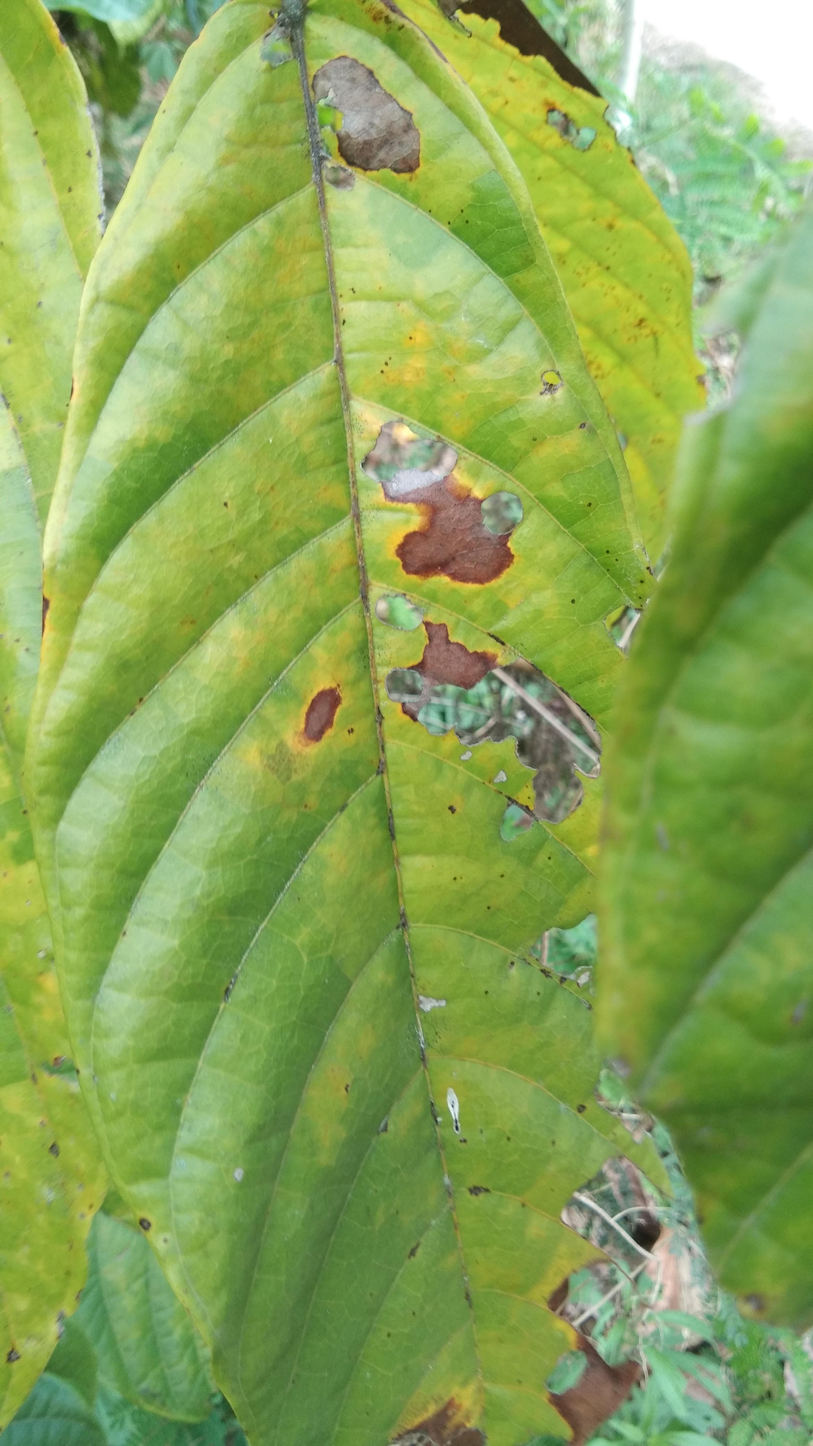deficiencia_potasio: (17, 0, 664, 1446)
